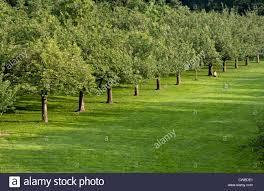tree: (13, 38, 71, 123), (84, 44, 133, 105), (61, 41, 97, 113)
